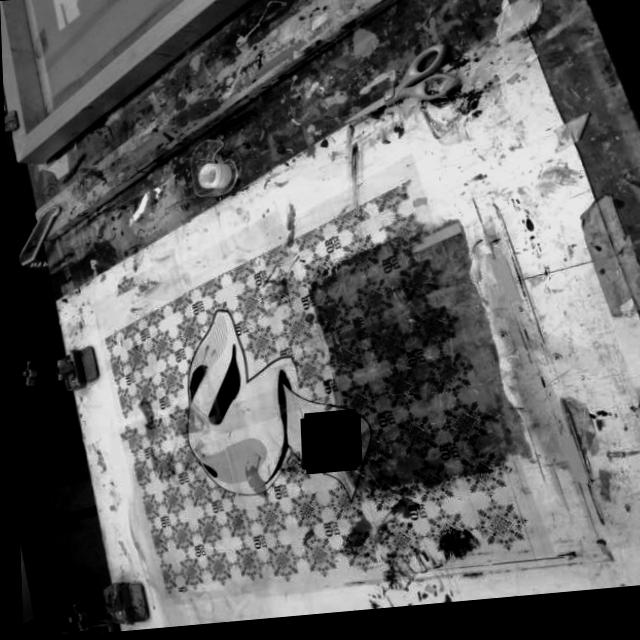qr_code: (299, 417, 355, 476)
